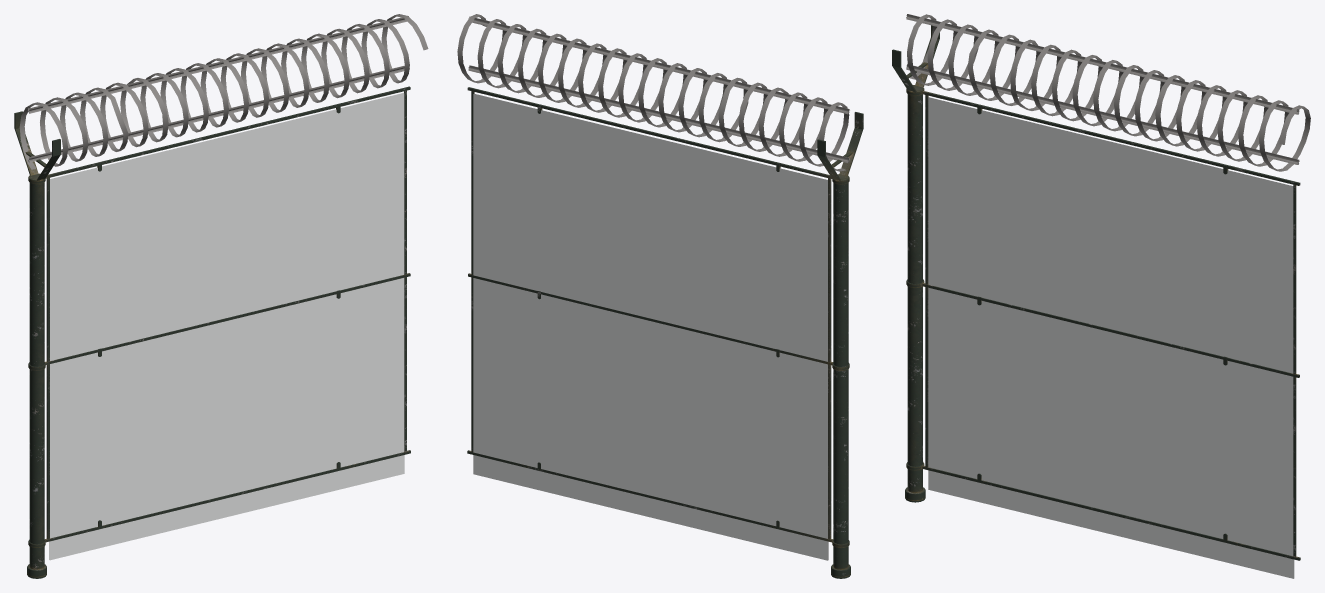
Rendered from SM_Fence_Exterior_NoPole.fbx.
3 renders of one model, left to right at view 1: azimuth 30°, elevation 25°; view 2: azimuth 150°, elevation 25°; view 3: azimuth 330°, elevation 25°, orthographic. The views are drawn at different scales.
Visible parts, largest first — view 1: SM_Fence_Exterior_NoPole_LOD0; view 2: SM_Fence_Exterior_NoPole_LOD0; view 3: SM_Fence_Exterior_NoPole_LOD0.
Boxes of the visible parts, x1=… form: SM_Fence_Exterior_NoPole_LOD0: x1=14, y1=14, x2=428, y2=578; SM_Fence_Exterior_NoPole_LOD0: x1=457, y1=14, x2=863, y2=578; SM_Fence_Exterior_NoPole_LOD0: x1=892, y1=14, x2=1310, y2=578.
Size of the model in its own units: 353 by 61.5 by 412.
Materials: 1 (1 with a texture image).
